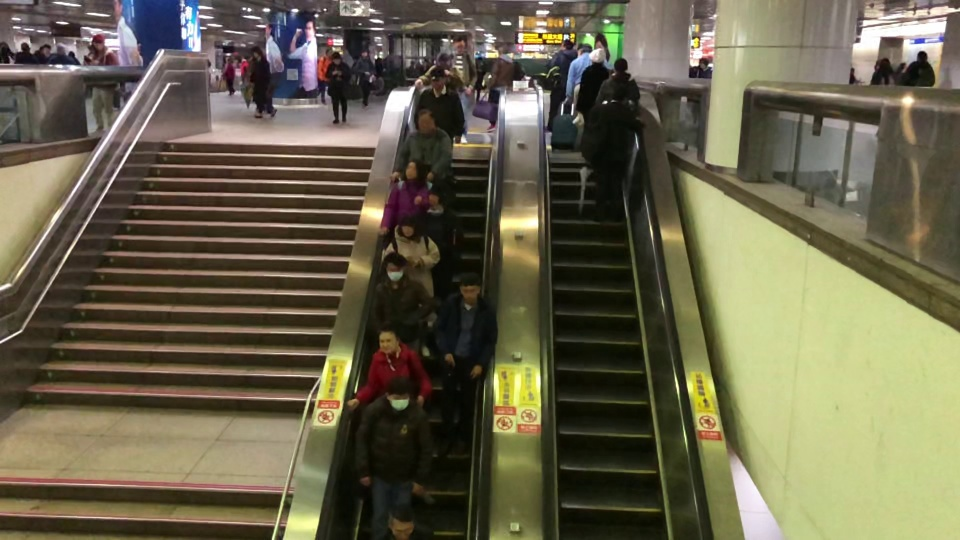person_head: (384, 214, 439, 308), (386, 503, 414, 539), (378, 252, 407, 282), (385, 377, 409, 409), (375, 326, 400, 354), (459, 276, 482, 304), (429, 65, 447, 91), (399, 213, 416, 237), (418, 111, 436, 131), (403, 161, 419, 179), (591, 47, 607, 64), (611, 57, 629, 72), (599, 85, 615, 100), (92, 34, 108, 48), (436, 52, 451, 65), (452, 37, 465, 52), (576, 43, 592, 55), (697, 57, 709, 71), (559, 39, 572, 51), (914, 50, 927, 61), (330, 52, 341, 64), (880, 57, 890, 67), (251, 46, 262, 55), (324, 46, 333, 55), (20, 42, 30, 50), (497, 47, 508, 54), (226, 57, 235, 64), (360, 49, 369, 56), (873, 59, 879, 69), (900, 60, 907, 68), (850, 66, 854, 74), (241, 58, 246, 63)
person_vbox: (351, 378, 442, 538), (347, 327, 439, 417), (442, 276, 485, 458), (389, 109, 454, 223), (414, 38, 478, 144), (376, 252, 430, 362), (582, 85, 623, 221), (593, 57, 641, 158), (377, 160, 429, 239), (414, 65, 464, 145), (575, 47, 608, 157), (543, 38, 578, 134), (435, 52, 471, 144), (85, 35, 117, 129), (487, 47, 521, 135), (251, 46, 280, 122), (326, 52, 352, 124), (564, 44, 591, 113), (352, 49, 375, 110), (906, 51, 938, 89), (317, 46, 333, 105), (222, 57, 237, 97), (13, 43, 35, 63), (695, 58, 714, 81), (849, 67, 866, 86), (240, 58, 246, 86)
